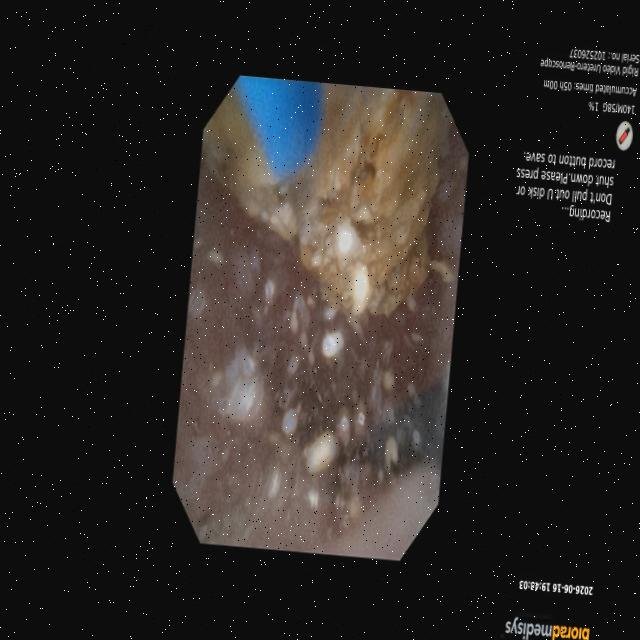laser-fibre: (292, 156, 318, 235)
stone-new: (203, 85, 451, 316)
